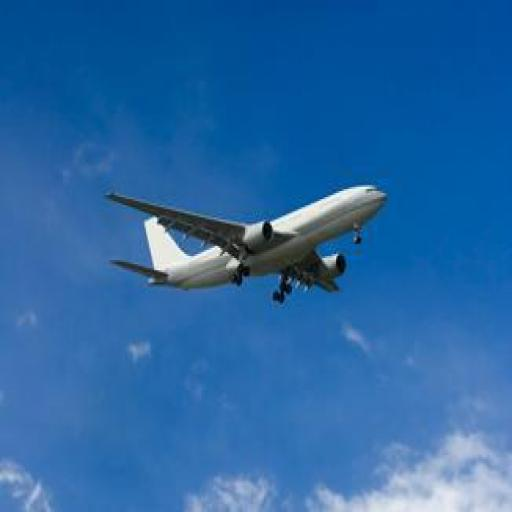aircraft: (100, 168, 390, 310)
